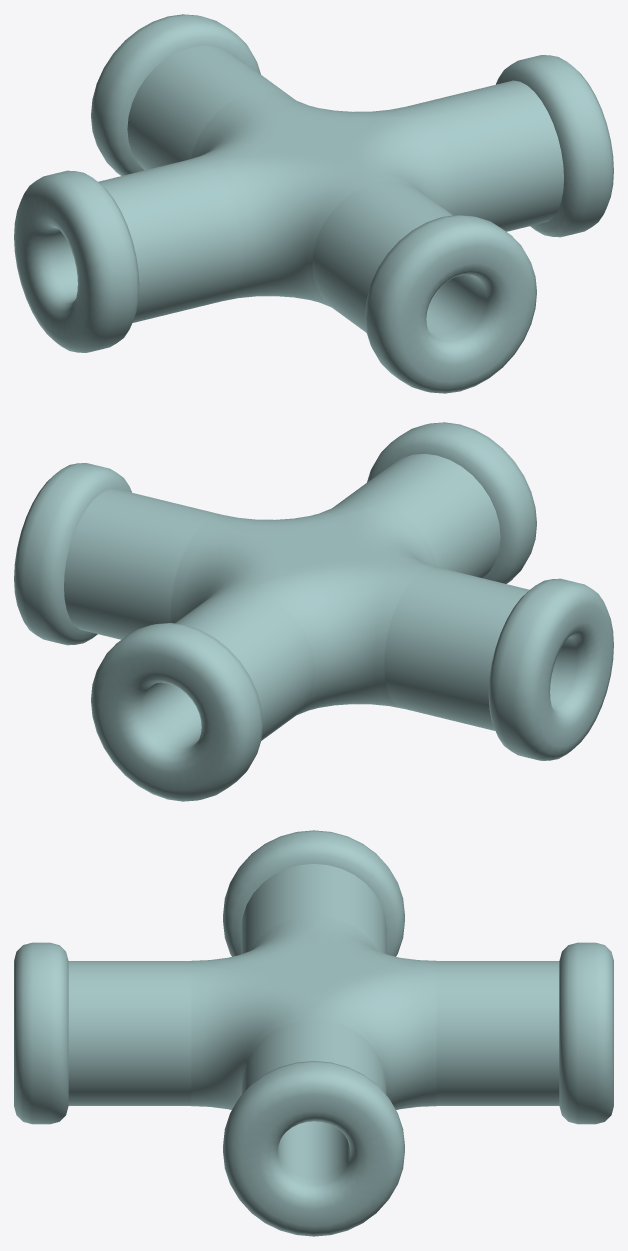
Rendered from LastLuna_Model_Station_Pipe_Quad.fbx.
3 renders of one model, top to bottom at view 1: azimuth 30°, elevation 25°; view 2: azimuth 150°, elevation 25°; view 3: azimuth 270°, elevation 25°, orthographic.
Parts seen in each view (by area): view 1: Pipe001; view 2: Pipe001; view 3: Pipe001.
Part boxes in pixels (x1,y1,x2,y2): Pipe001: (14,14,613,393); Pipe001: (14,422,613,801); Pipe001: (14,830,613,1236).
Size of the model in its own units: 82.5 by 25 by 82.5.
